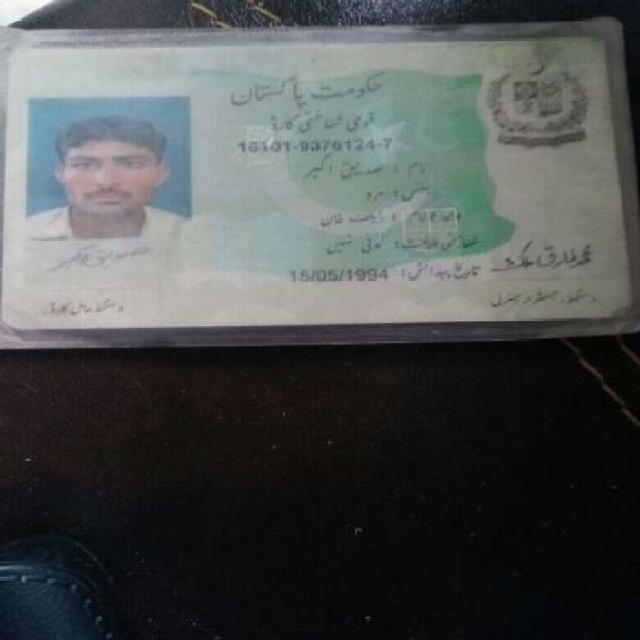Front: (6, 34, 634, 338)
